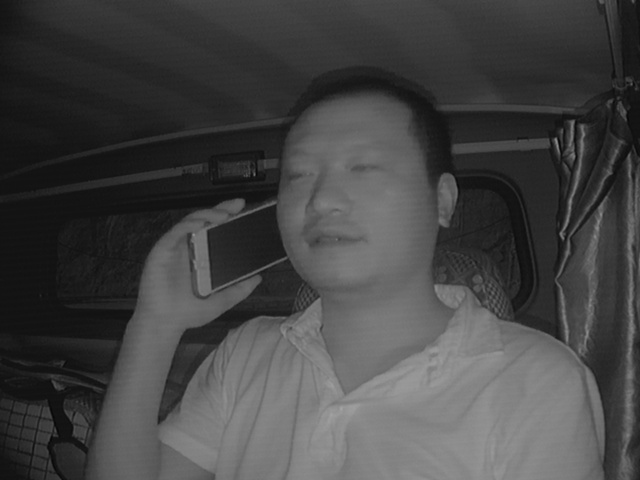hand: (136, 199, 253, 328)
